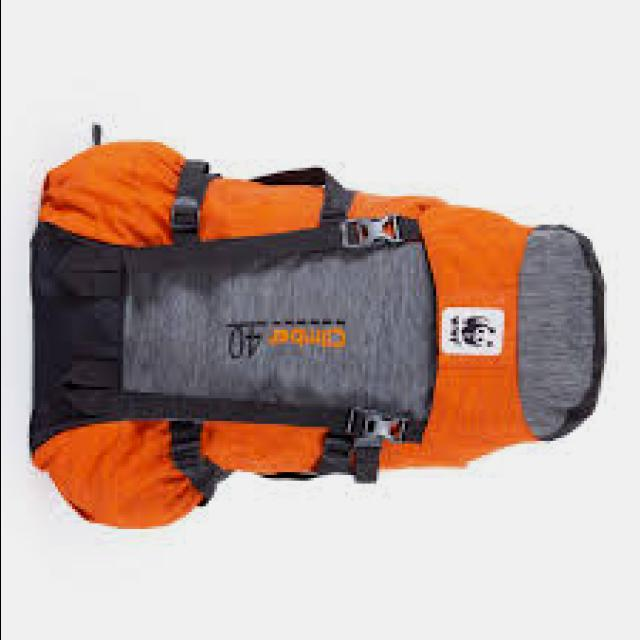backpack: (30, 132, 610, 530)
